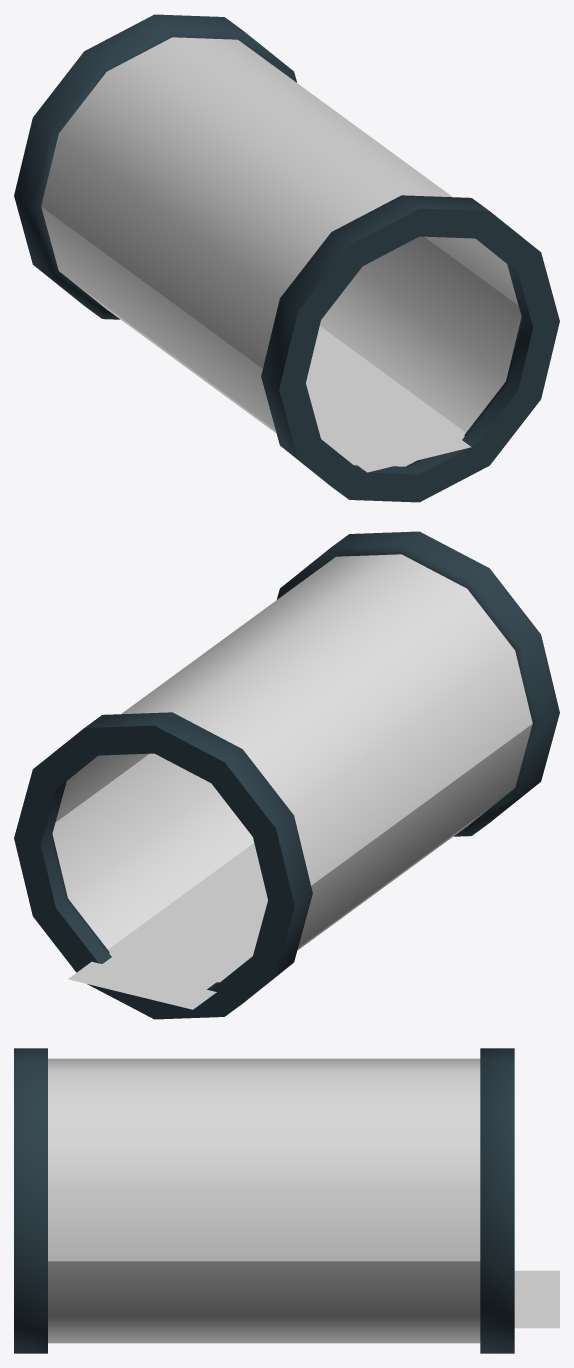
File: level_tube_01.fbx
The picture shows the model from 3 angles, top to bottom: view 1: azimuth 30°, elevation 25°; view 2: azimuth 150°, elevation 25°; view 3: azimuth 270°, elevation 25°; orthographic projection. The views are drawn at different scales.
Visible parts, largest first — view 1: pCylinder32, pPlane10, pCylinder31; view 2: pCylinder32, pPlane10, pCylinder31; view 3: pCylinder32, pCylinder31, pPlane10.
Boxes of the visible parts, x1,y1,x2,y2 form: pCylinder32: (41, 37, 518, 368); pPlane10: (14, 14, 559, 502); pCylinder31: (41, 207, 521, 466); pCylinder32: (55, 554, 532, 885); pPlane10: (14, 531, 559, 1019); pCylinder31: (52, 724, 532, 950); pCylinder32: (48, 1058, 480, 1261); pCylinder31: (48, 1261, 480, 1343); pPlane10: (14, 1048, 559, 1353).
Bounding box in the file's own units: 6.73 × 6.73 × 12.
